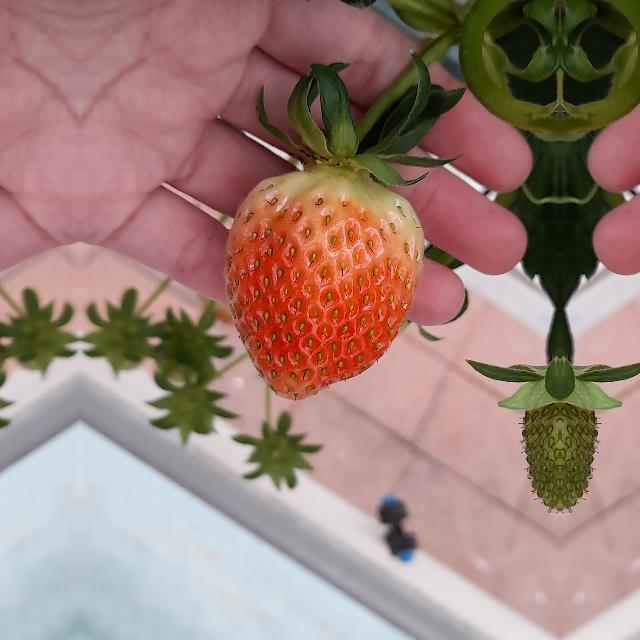Health_100: (224, 170, 423, 400)
